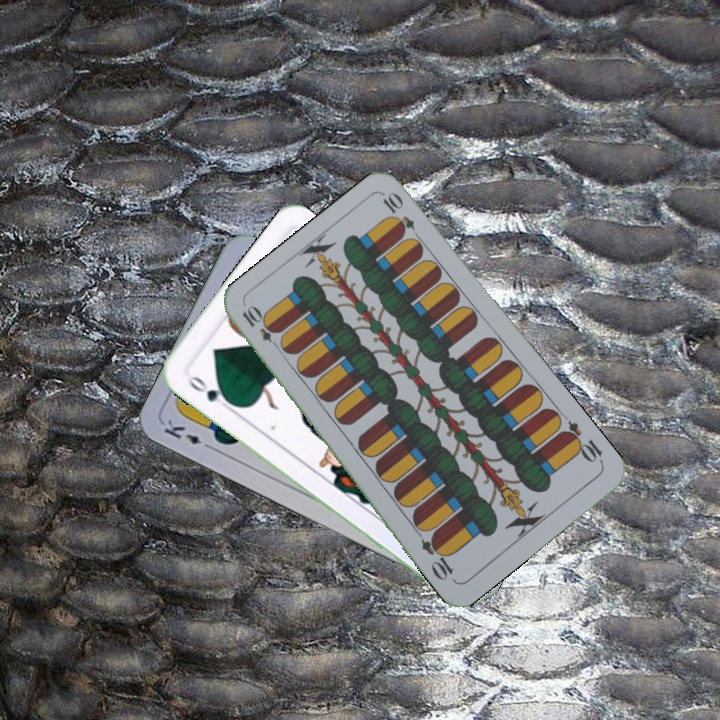E10: (557, 417, 606, 467), (238, 302, 285, 353)
EK: (160, 415, 216, 453)
GO: (184, 369, 235, 413)
